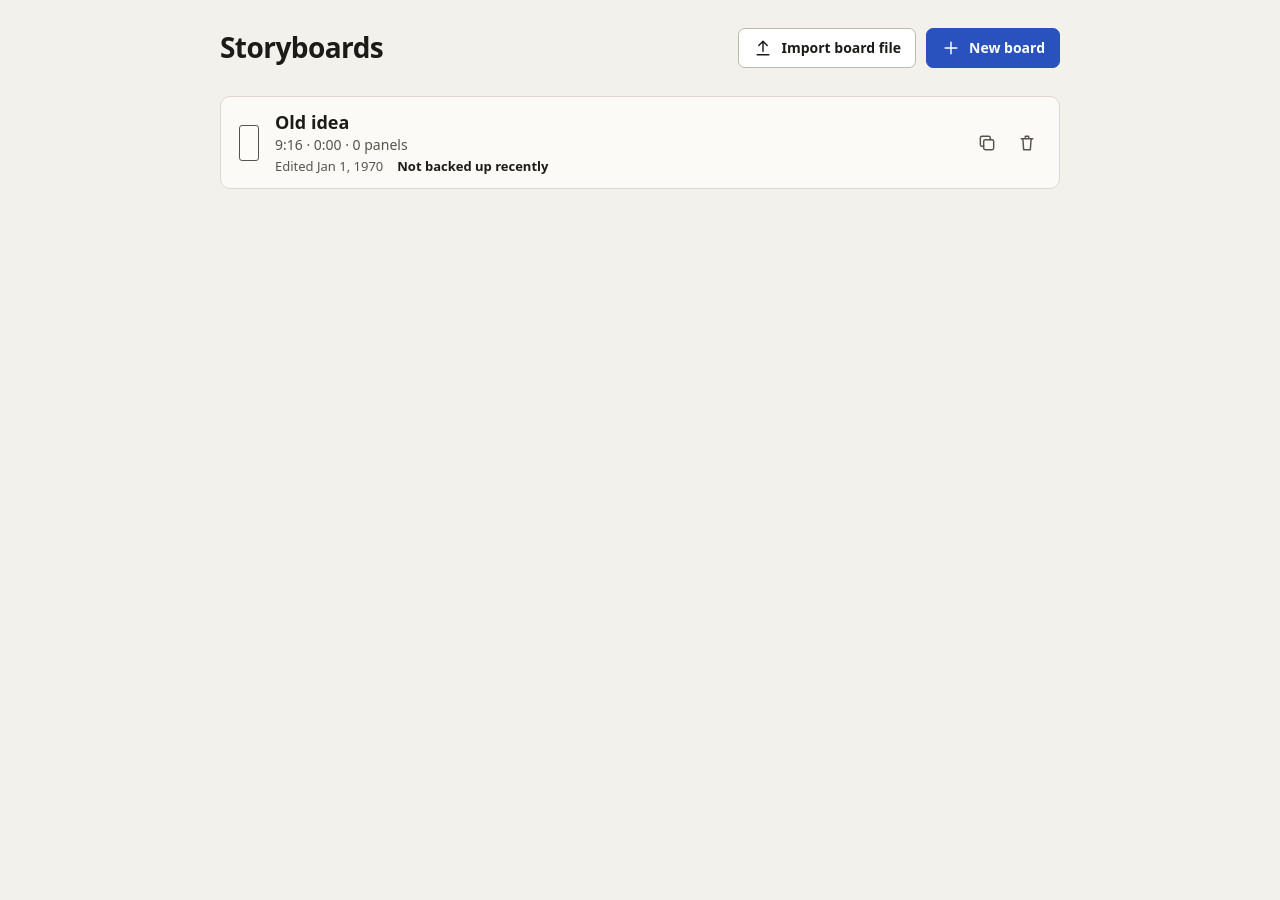
Test: delete asks for confirmation before removing
Click the button named "Delete Old idea": [1027, 143] box 1007,123 -> 1047,163
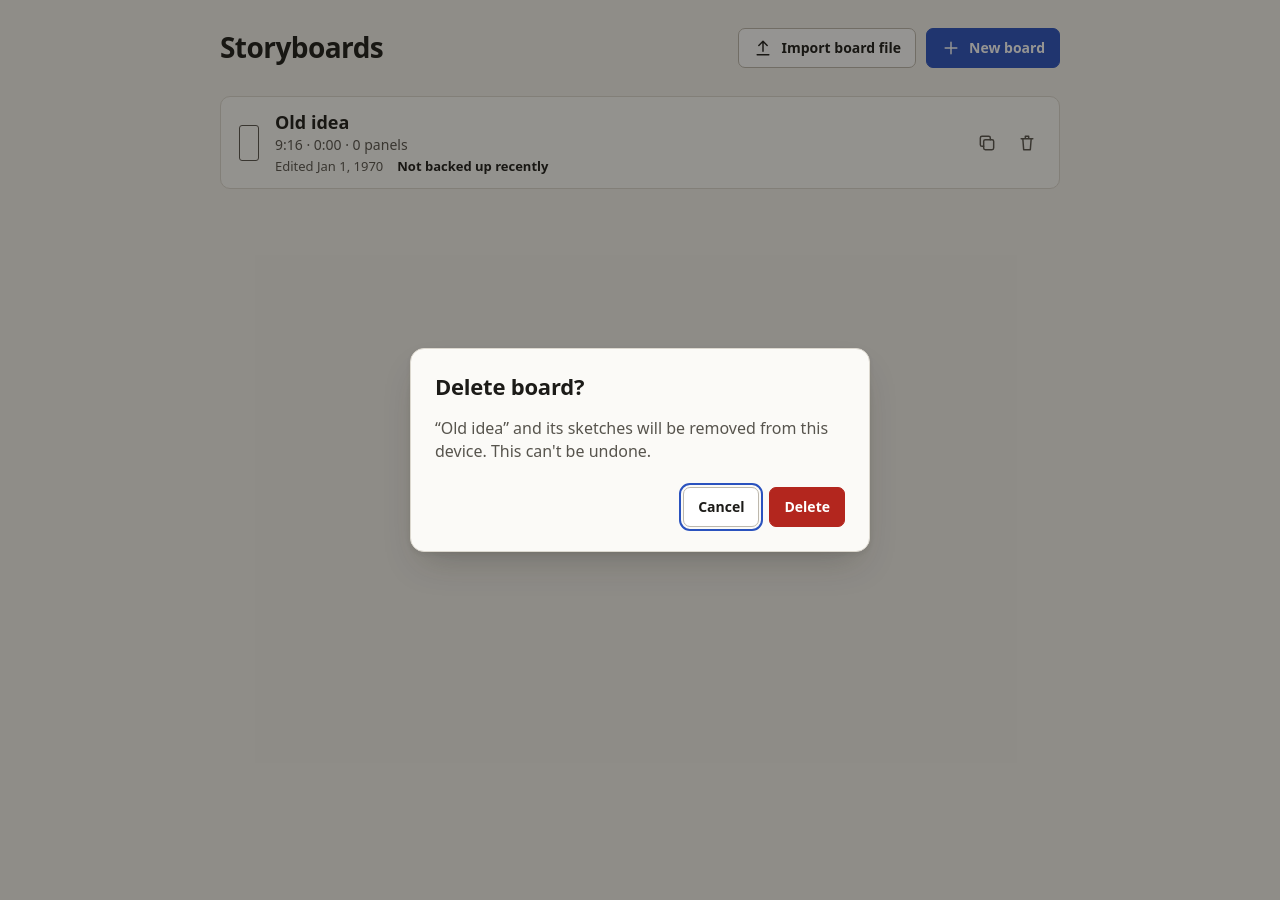
Click the button "Delete": [807, 507] box 770,487 -> 845,527
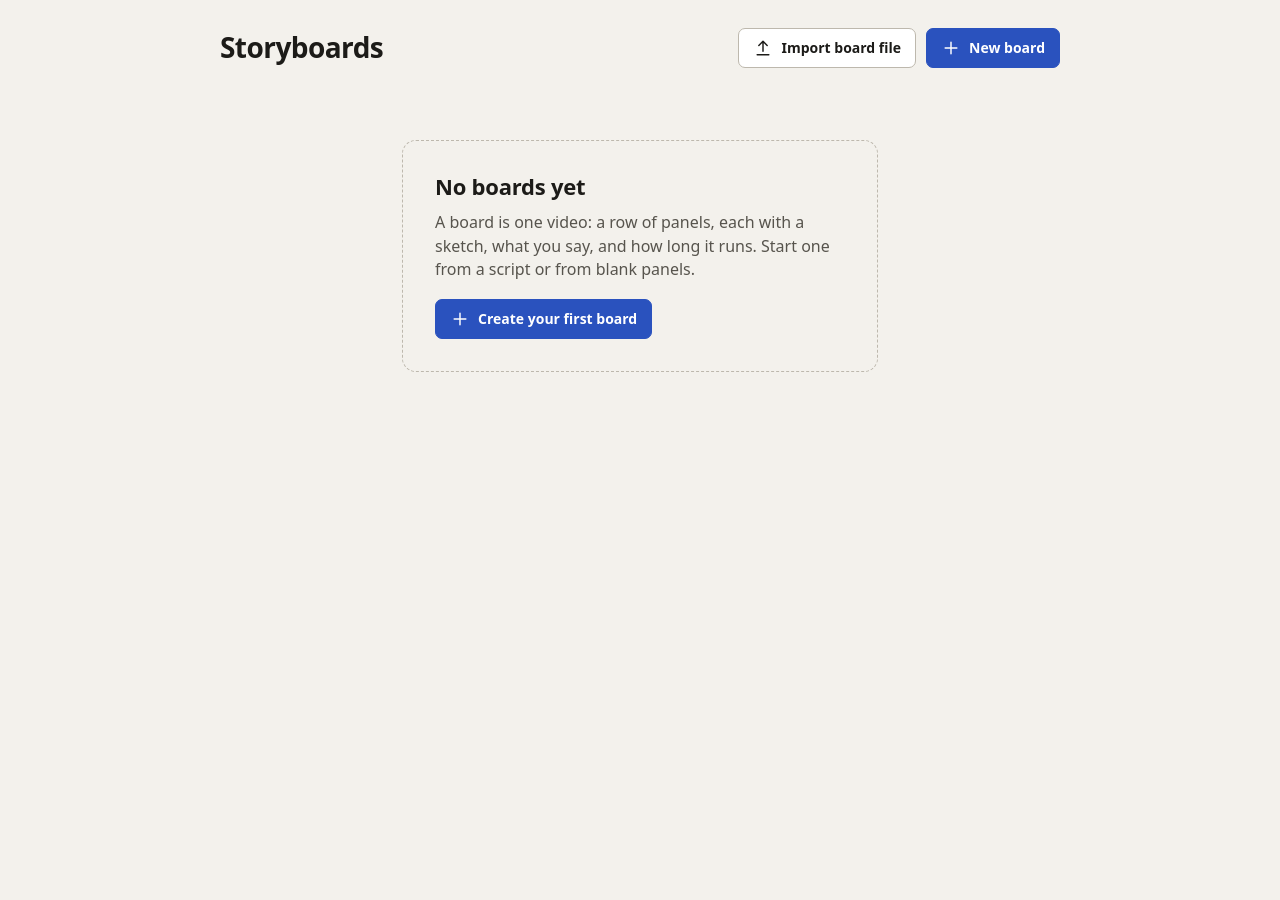
Expected: the link "Old idea" is gone
